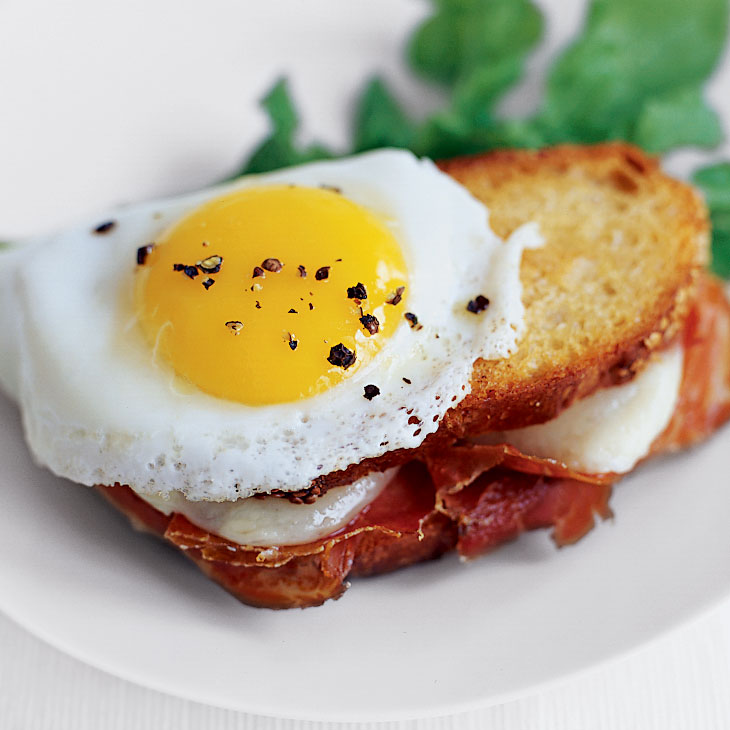fried egg: (73, 211, 486, 420)
slice of bread: (223, 483, 640, 564)
